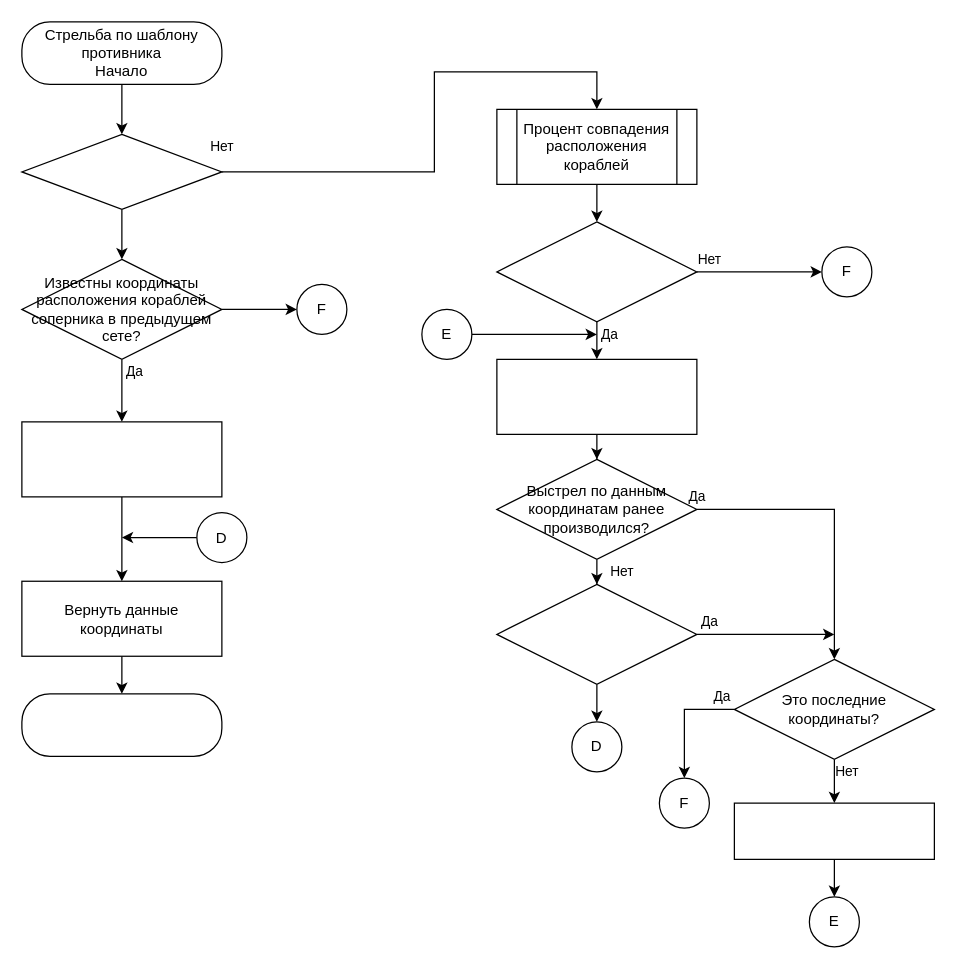
Some shapes in this 956 by 969 pixel diagram are drawn without their labels. The shapes that lost their labels are listed below. From the top down, each one's centre as x and y in pixels, then its label:
the point at 121,171: Идет второй сет?
the point at 596,271: Есть процент совпадения больше 0?
the point at 596,396: Выбрать координаты из карты с бОльшим процентом совпадения
the point at 121,459: Выбрать координаты из расположения кораблей соперника на предыдущем сете
the point at 596,633: Данные координаты входят в область убитого корабля или вокруг него?
the point at 121,724: Стрельба по шаблону противника Конец
the point at 833,830: Перейти к следующим координатам
